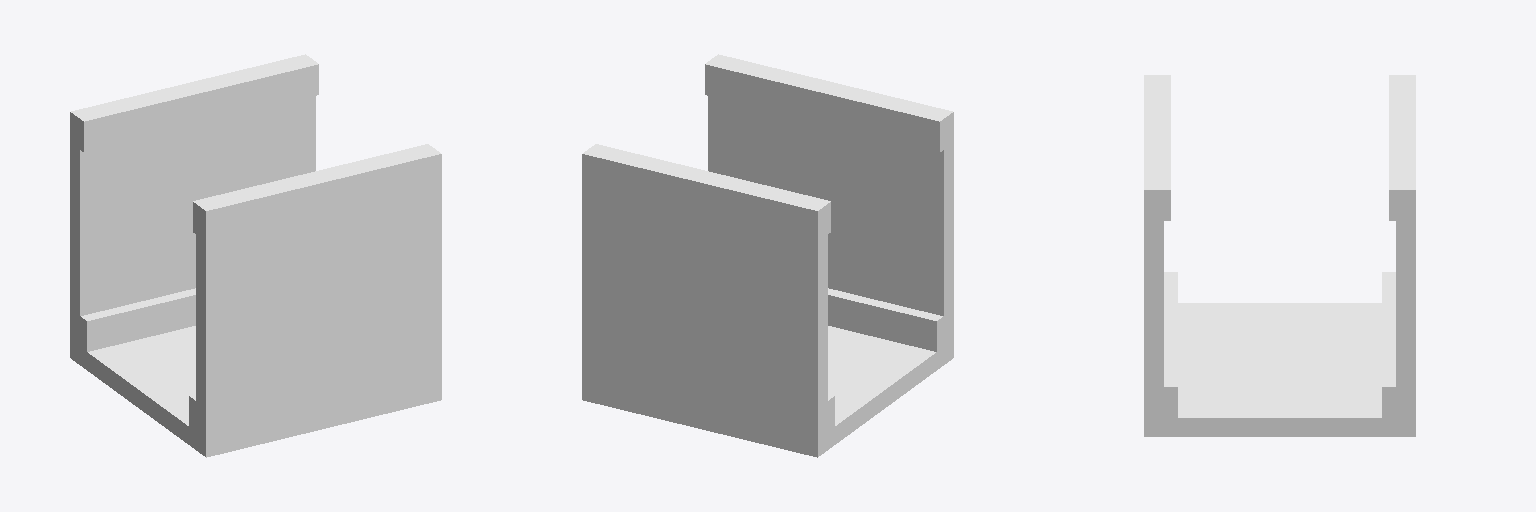
Rendered from WallCenterVoxel.obj.
3 renders of one model, left to right at view 1: azimuth 30°, elevation 25°; view 2: azimuth 150°, elevation 25°; view 3: azimuth 270°, elevation 25°, orthographic.
Visible parts, largest first — view 1: object 1; view 2: object 1; view 3: object 1.
Part boxes in pixels (x1,y1,x2,y2): object 1: (70, 54, 441, 457); object 1: (582, 54, 953, 457); object 1: (1144, 75, 1415, 436).
Size of the model in its own units: 4 by 4 by 4.